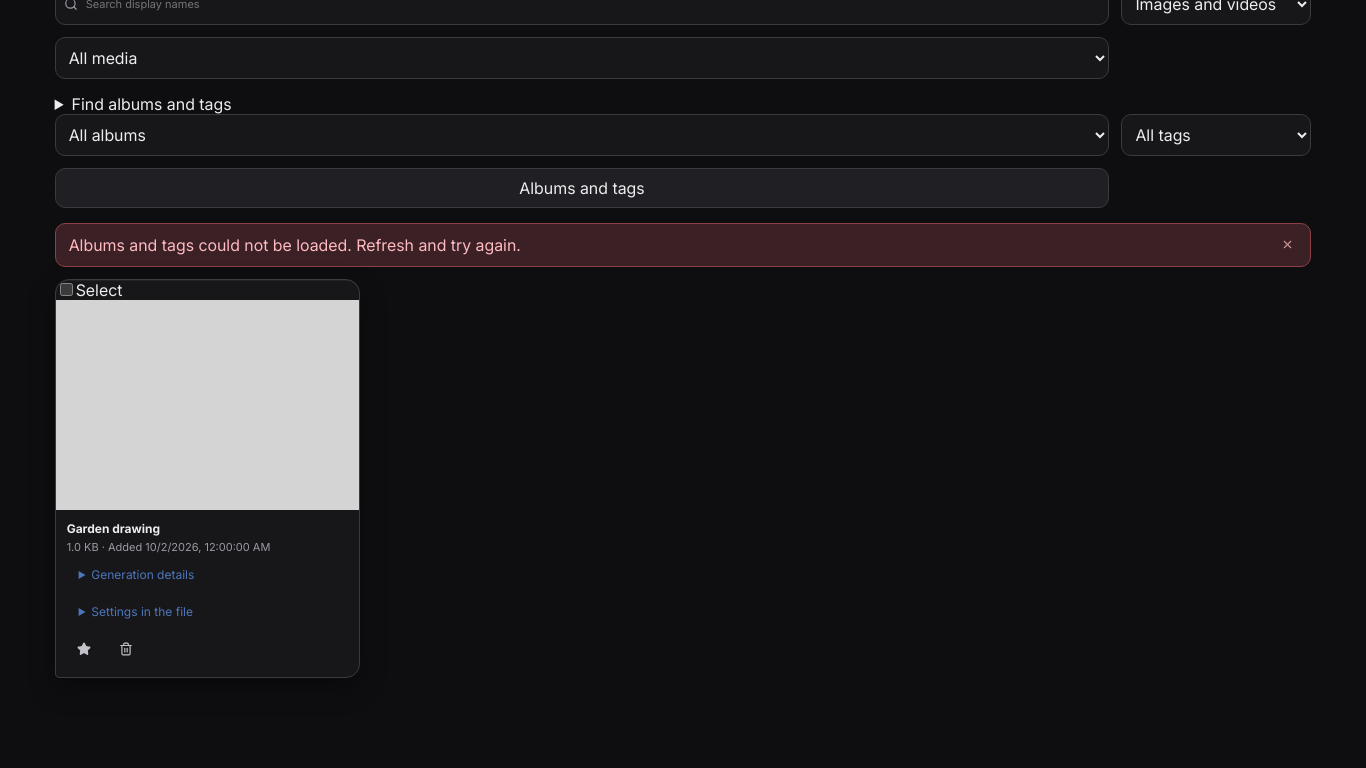
Scenario: previews only the selected membership and leaves Cancel inert
(page scrolled)
What coordinates should you click on to do the following:
click the button named "Move Garden drawing to Recently Deleted"
I would click on:
 (126, 649)
Its box is [109, 632, 143, 666].
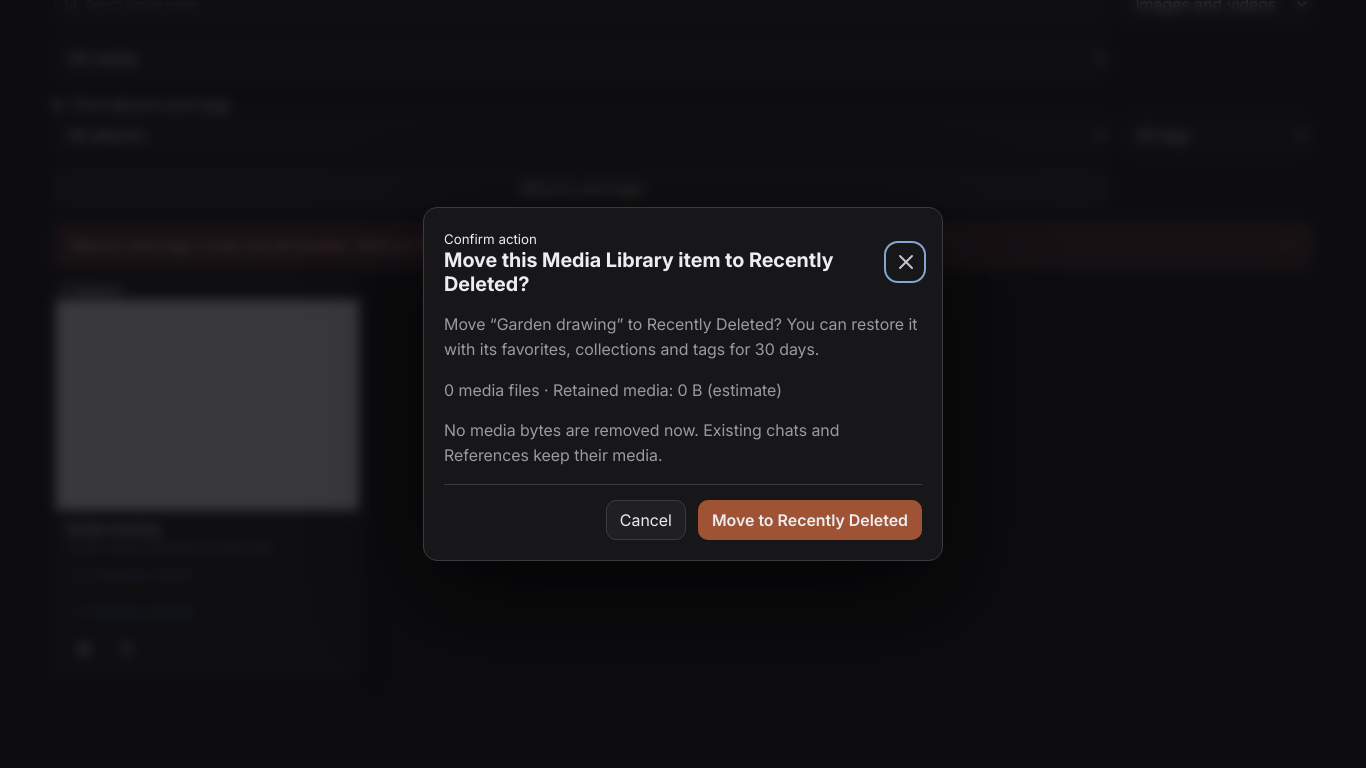
Expected: the text "No media bytes are removed now" is shown, [444, 420, 839, 465]
What coordinates should you click on to do the following:
click the button "Cancel"
I would click on:
 (646, 520)
Its box is [606, 500, 686, 540].
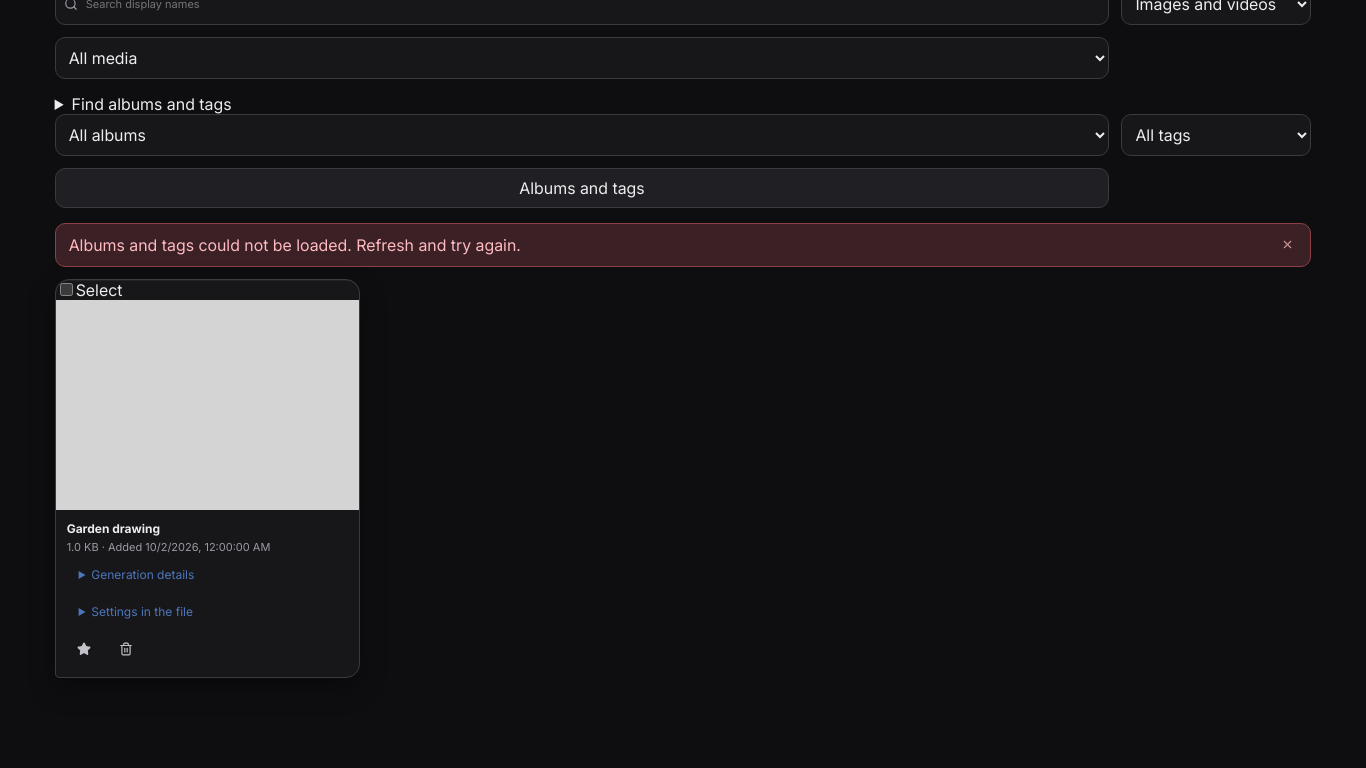
Expected: the text "Garden drawing" is shown, [67, 521, 160, 536]
Expected: the dialog is gone
